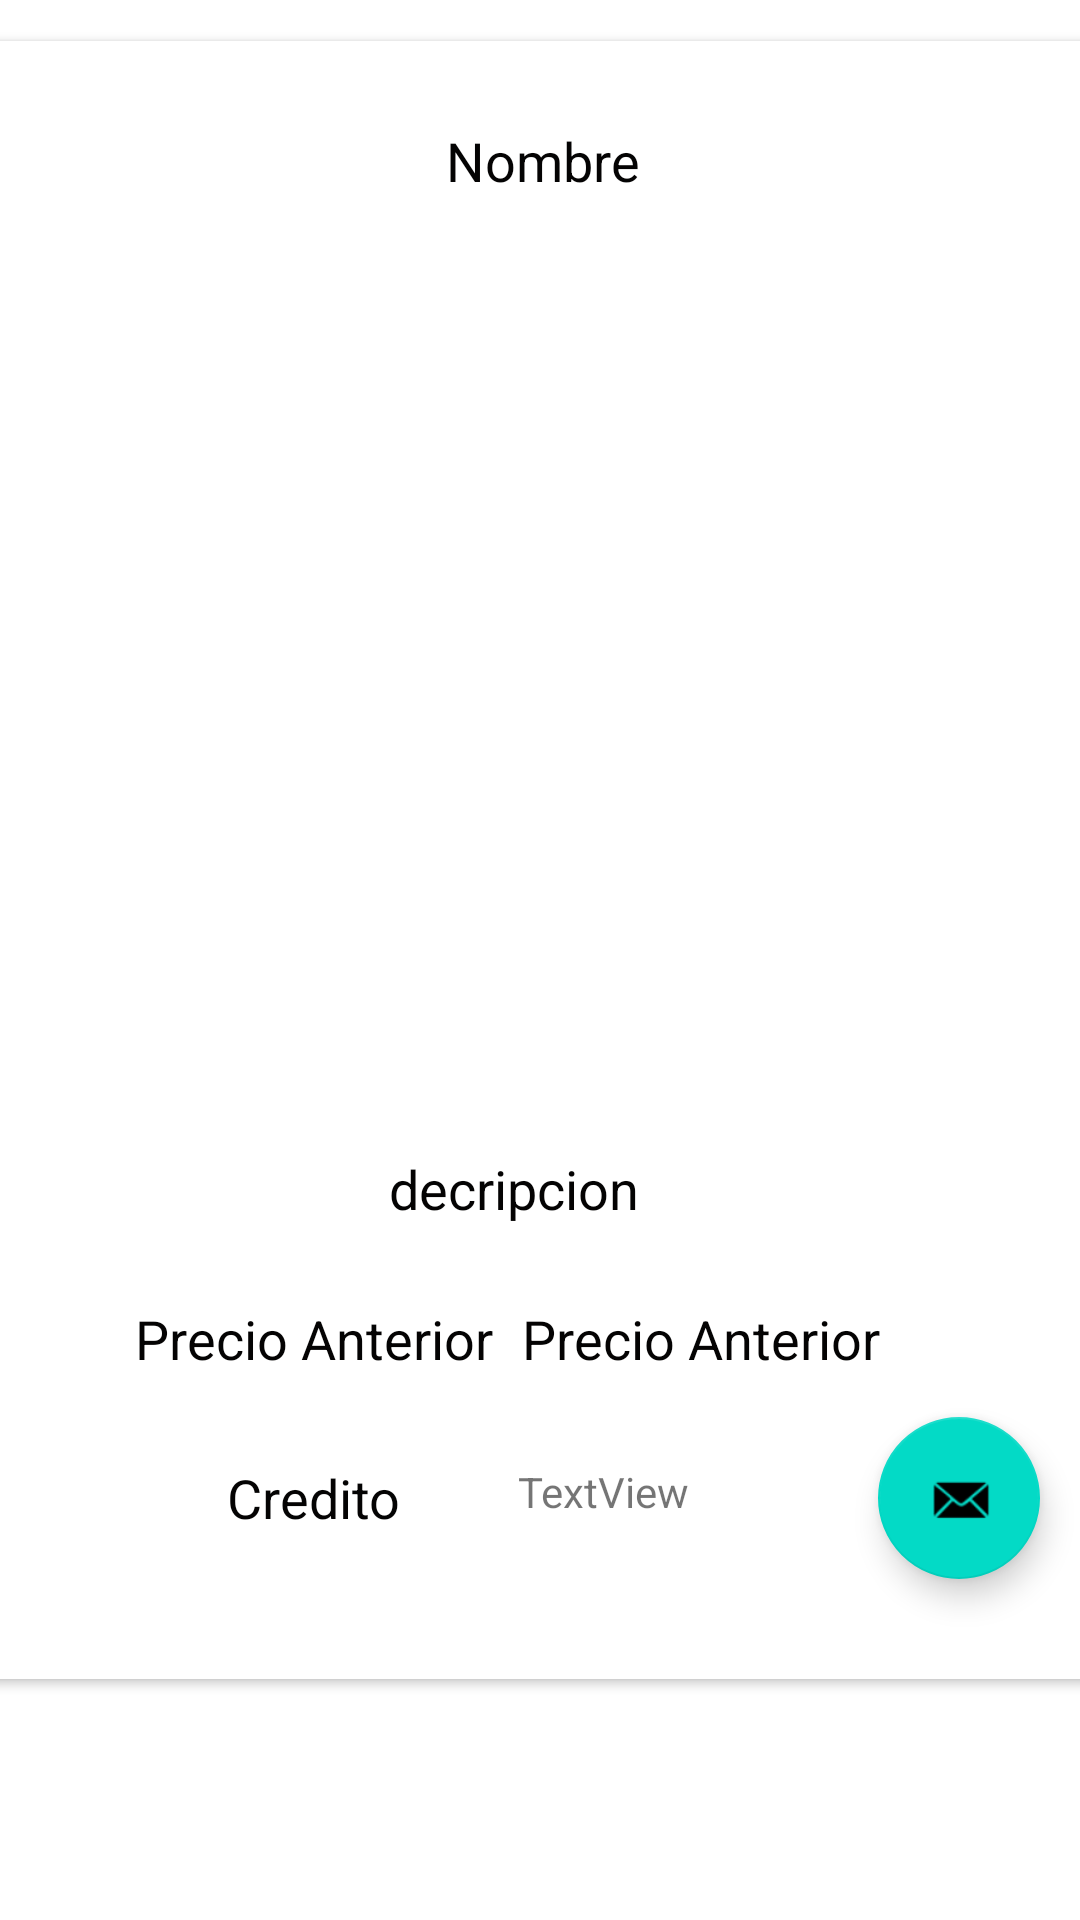

Icon click points for this 1080w x 1920h phone screenshot, format point (x, y):
sym action email: point (959, 1498)
